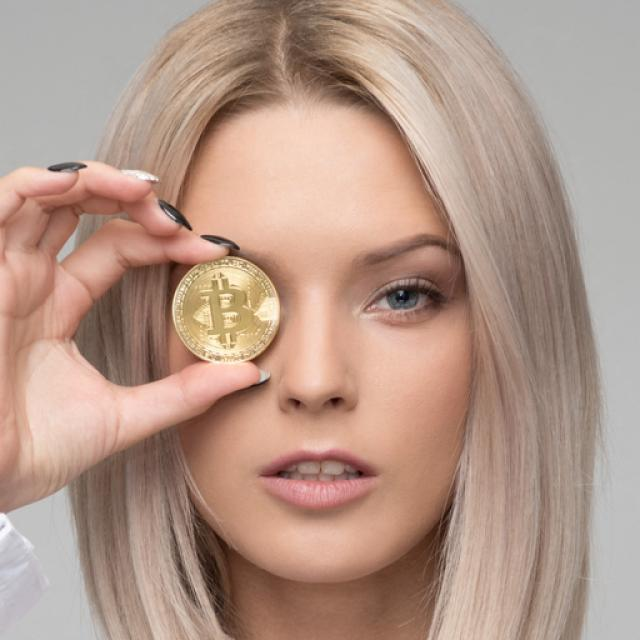neutral: (168, 96, 477, 584)
